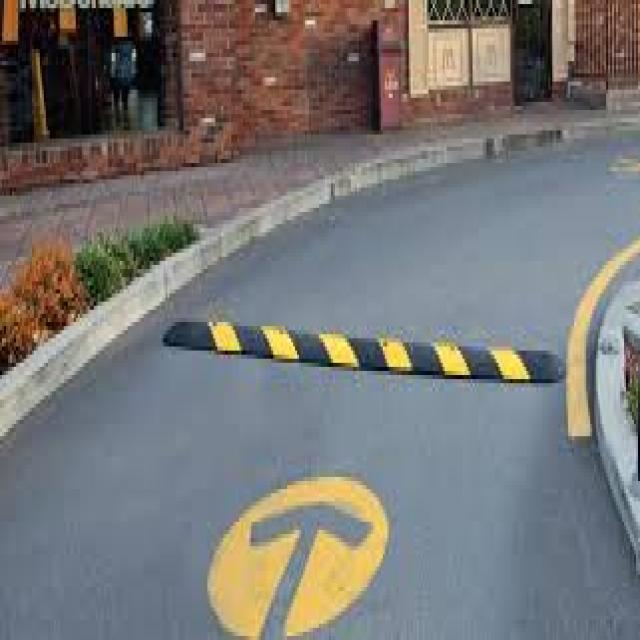Marked Bump: (178, 310, 555, 412)
